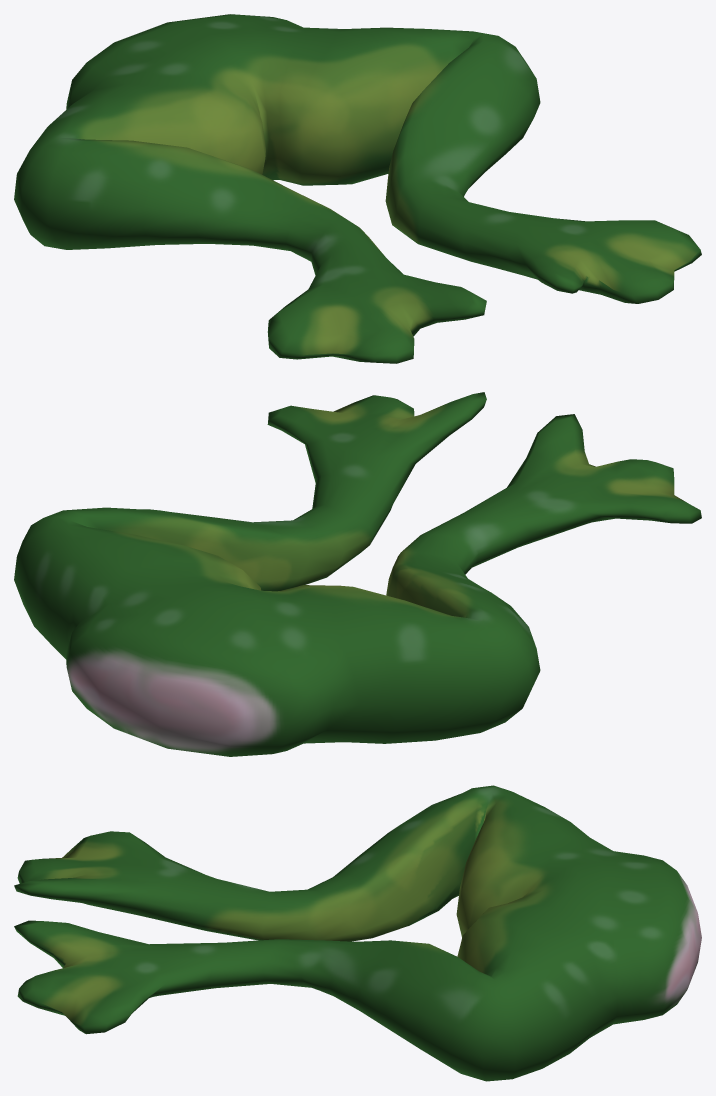
The model's file is FrogLegs.fbx.
3 views of the same model, one above another, from view 1: azimuth 30°, elevation 25°; view 2: azimuth 150°, elevation 25°; view 3: azimuth 270°, elevation 25° (orthographic). The views are drawn at different scales.
Parts seen in each view (by area): view 1: Cube.001; view 2: Cube.001; view 3: Cube.001.
Boxes of the visible parts, x1,y1,x2,y2 form: Cube.001: [14, 14, 701, 363]; Cube.001: [14, 392, 701, 756]; Cube.001: [14, 785, 701, 1081].
Bounding box in the file's own units: 235 × 59.77 × 296.
Materials: 1 (1 with a texture image).
